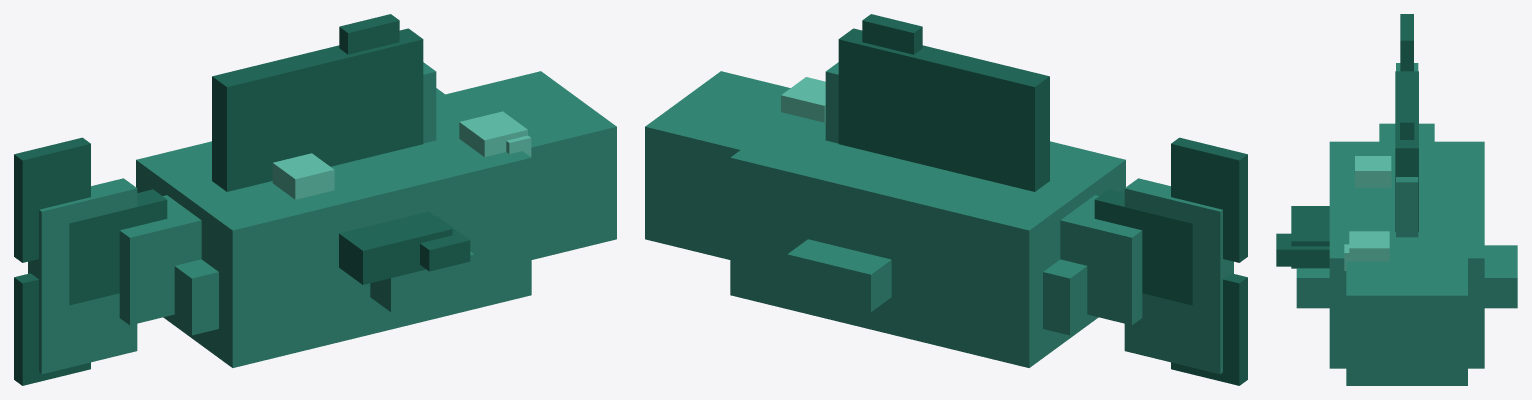
The model's file is fish_reef_perch.glb.
The picture shows the model from 3 angles, left to right: view 1: azimuth 30°, elevation 25°; view 2: azimuth 150°, elevation 25°; view 3: azimuth 270°, elevation 25°; orthographic projection. The views are drawn at different scales.
Parts seen in each view (by area): view 1: FishArt_body, FishArt_dorsal, FishArt_tail, FishArt_pectoral, FishArt_eye, FishArt_specialty; view 2: FishArt_body, FishArt_dorsal, FishArt_tail, FishArt_eye; view 3: FishArt_body, FishArt_pectoral, FishArt_dorsal, FishArt_eye, FishArt_specialty, FishArt_tail.
Part boxes in pixels (x1=…): FishArt_body: x1=28, y1=62, x2=616, y2=374; FishArt_dorsal: x1=212, y1=14, x2=423, y2=191; FishArt_tail: x1=14, y1=137, x2=167, y2=385; FishArt_pectoral: x1=339, y1=211, x2=470, y2=284; FishArt_eye: x1=459, y1=111, x2=531, y2=156; FishArt_specialty: x1=272, y1=153, x2=334, y2=199; FishArt_body: x1=645, y1=62, x2=1233, y2=374; FishArt_dorsal: x1=838, y1=14, x2=1049, y2=191; FishArt_tail: x1=1094, y1=137, x2=1247, y2=385; FishArt_eye: x1=781, y1=77, x2=825, y2=122; FishArt_body: x1=1296, y1=63, x2=1517, y2=385; FishArt_pectoral: x1=1276, y1=206, x2=1329, y2=268; FishArt_dorsal: x1=1395, y1=71, x2=1418, y2=231; FishArt_eye: x1=1344, y1=231, x2=1389, y2=270; FishArt_specialty: x1=1355, y1=156, x2=1391, y2=187; FishArt_tail: x1=1400, y1=14, x2=1413, y2=71.
Bounding box in the file's own units: 0.3091 × 0.1442 × 0.1439.
